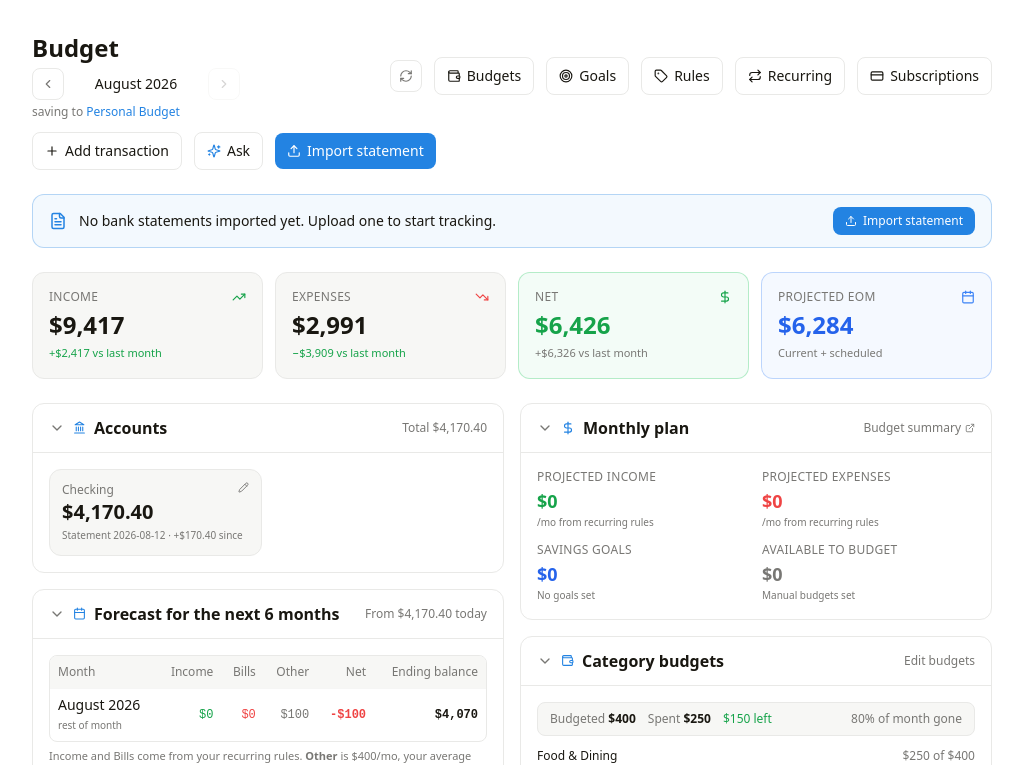
BudgetDashboard collapsible sections › collapses an open section and remembers that too
The width and height of the screenshot is (1024, 765).
Note: A header button is also labelled Budgets, so target the section heading itself.
Click the button "Category budgets": (714, 660) [537, 648, 892, 672]
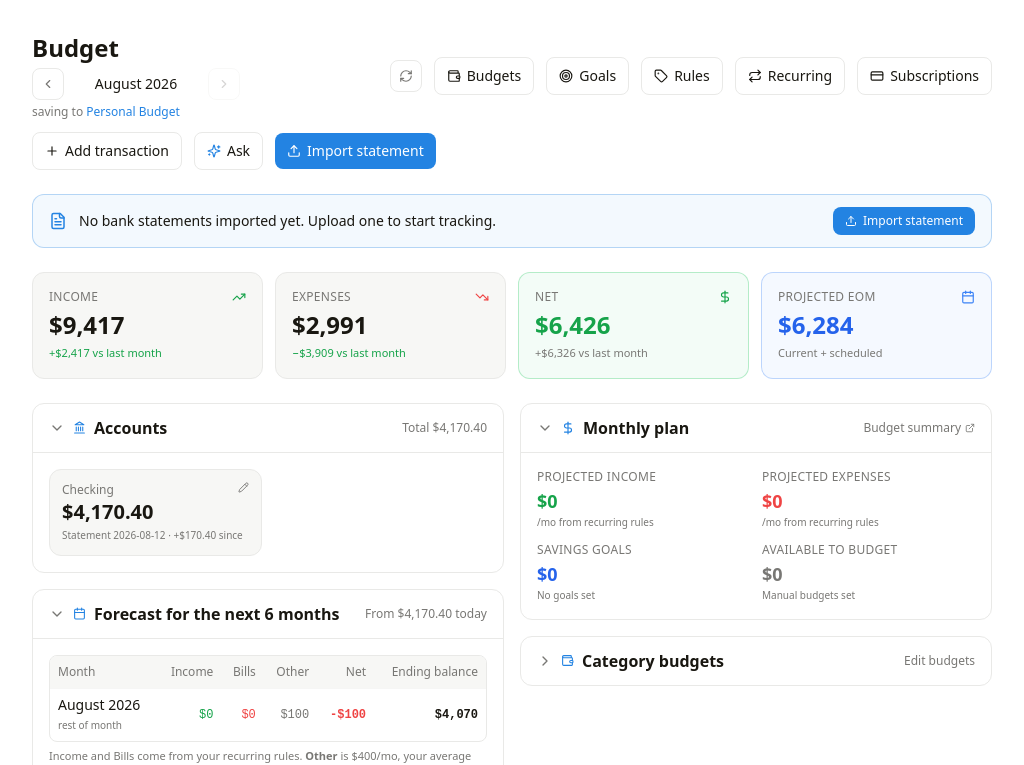
Expected: the text "Food & Dining" is gone
